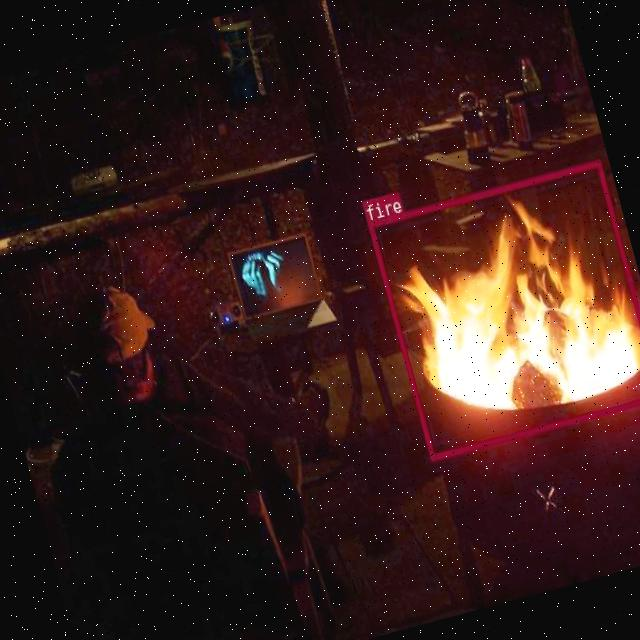fire: (367, 159, 640, 459)
